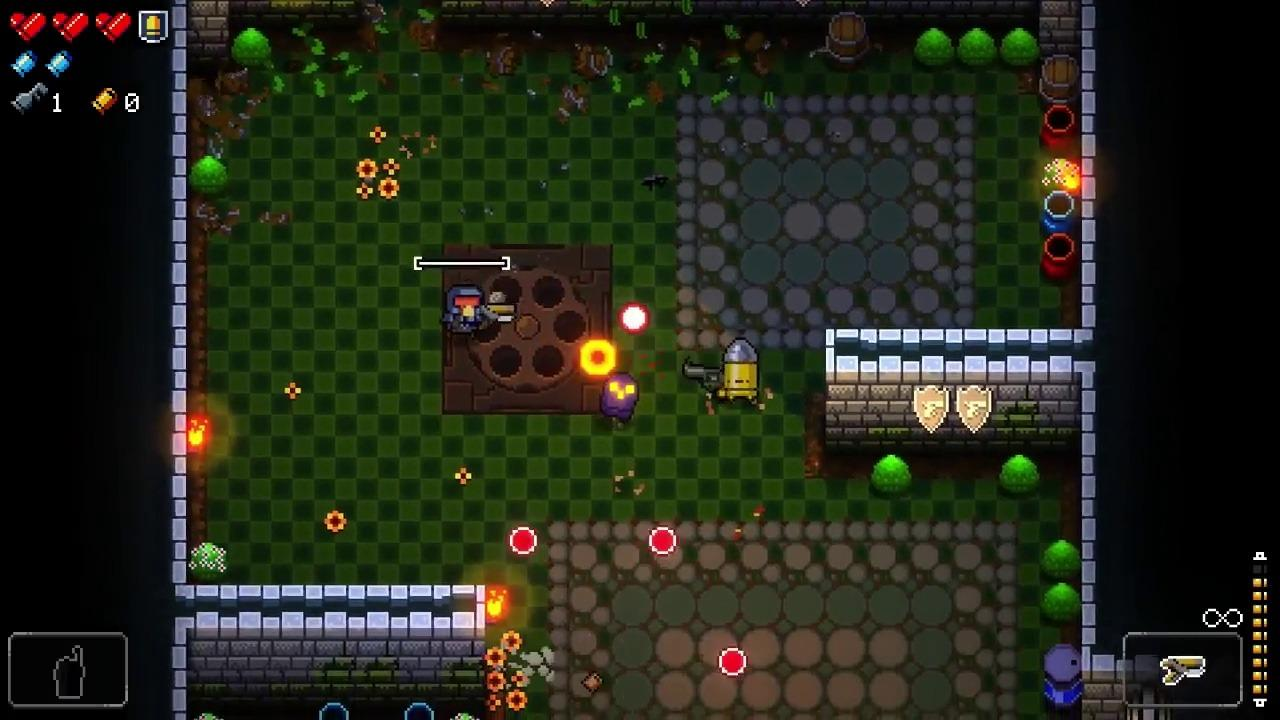bullet: (619, 303, 649, 334)
bullet_kin: (722, 337, 760, 405)
hollow_bullet: (720, 646, 749, 677), (648, 526, 678, 555), (509, 526, 538, 555)
player: (443, 283, 486, 341)
rubber_kin: (601, 372, 639, 425)
teleporter: (441, 242, 613, 413)
